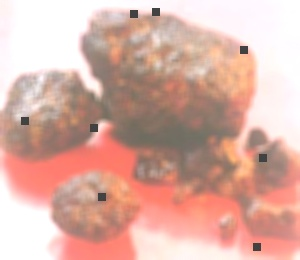halobolite: (81, 3, 260, 147), (1, 63, 95, 156), (49, 165, 136, 245), (209, 178, 297, 249), (121, 149, 170, 184)
